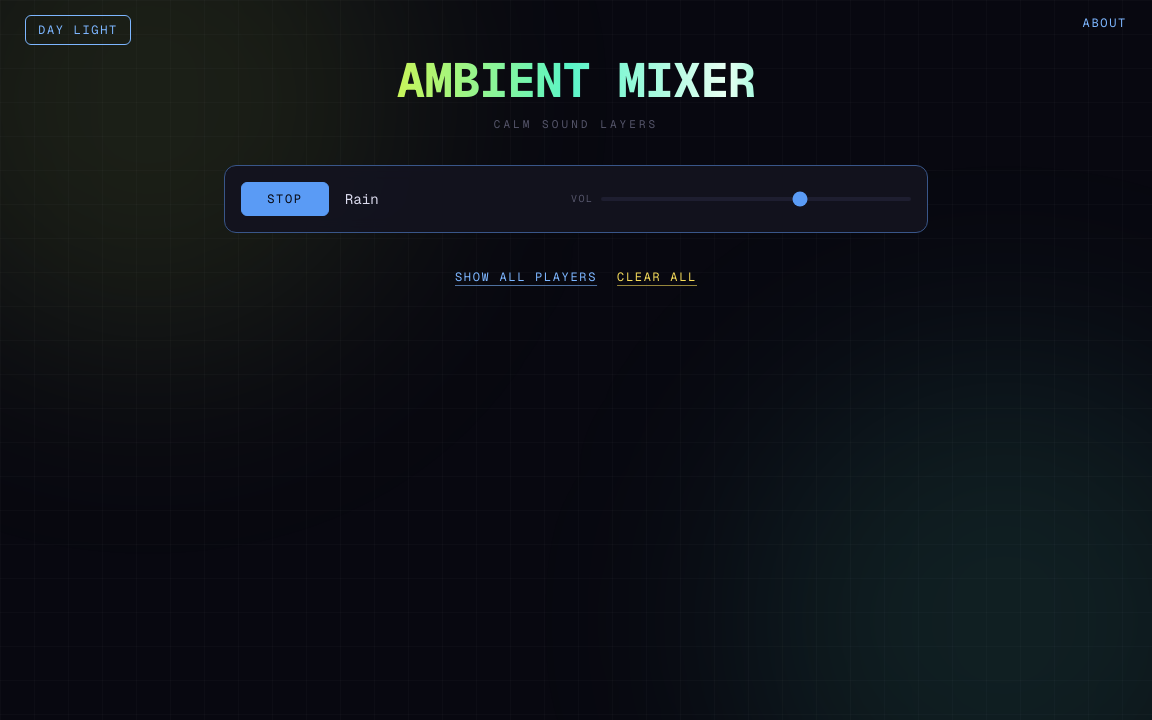
Home page audio state logic › toggles show/hide unused players control for filtered state
What coordinates should you click on to do the following:
click the button "Show all players"
I would click on:
 (526, 276)
Its box is [455, 268, 597, 284].
(page scrolled)
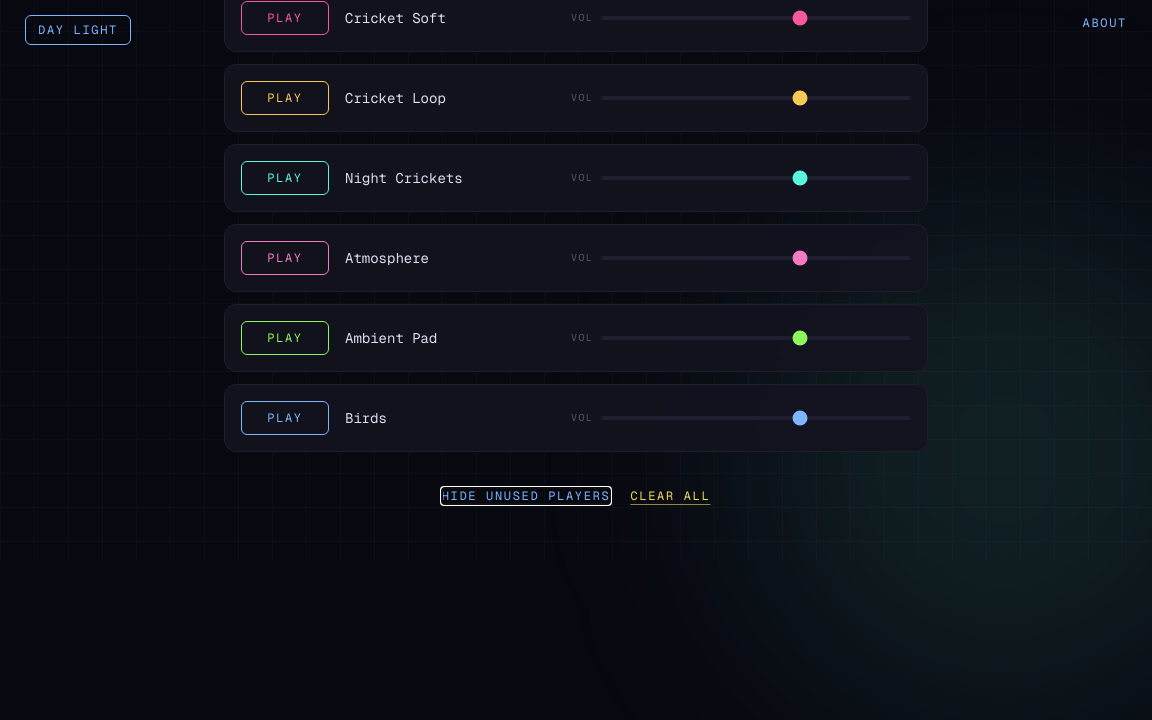
Expected: the button "Hide unused players" is shown
What coordinates should you click on to do the following:
click the button "Hide unused players"
I would click on:
 (526, 496)
Its box is [442, 488, 610, 504].
(page scrolled)
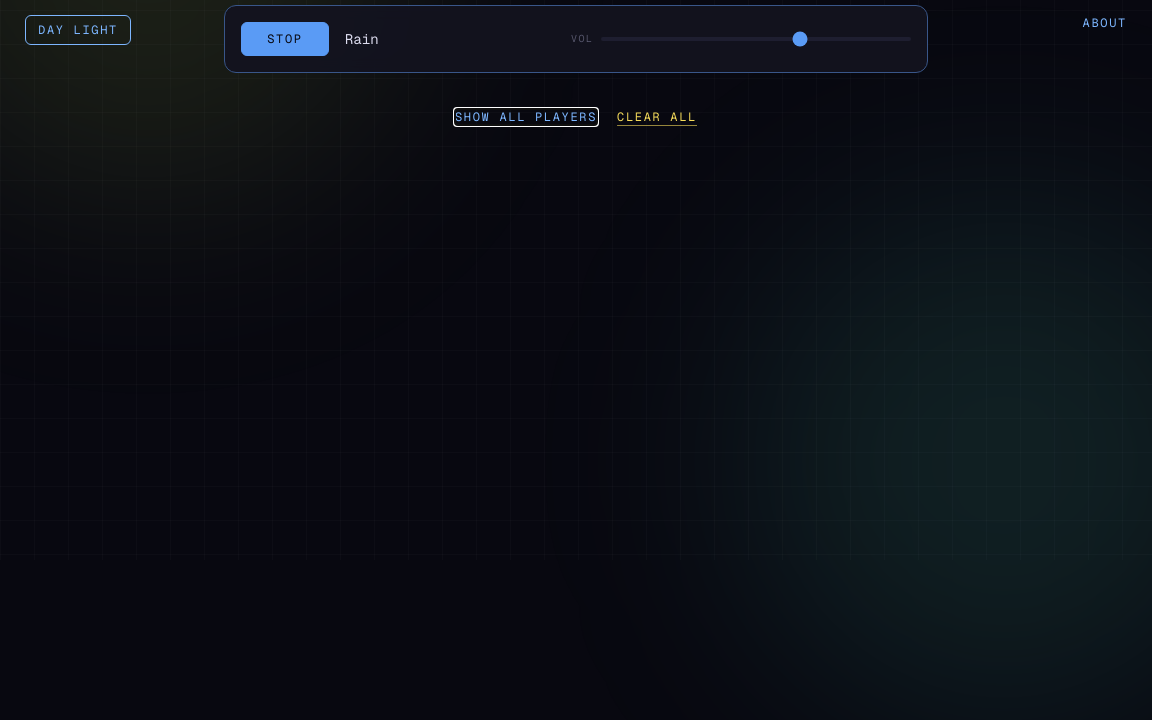
Expected: the button "Show all players" is shown, [455, 108, 597, 124]
